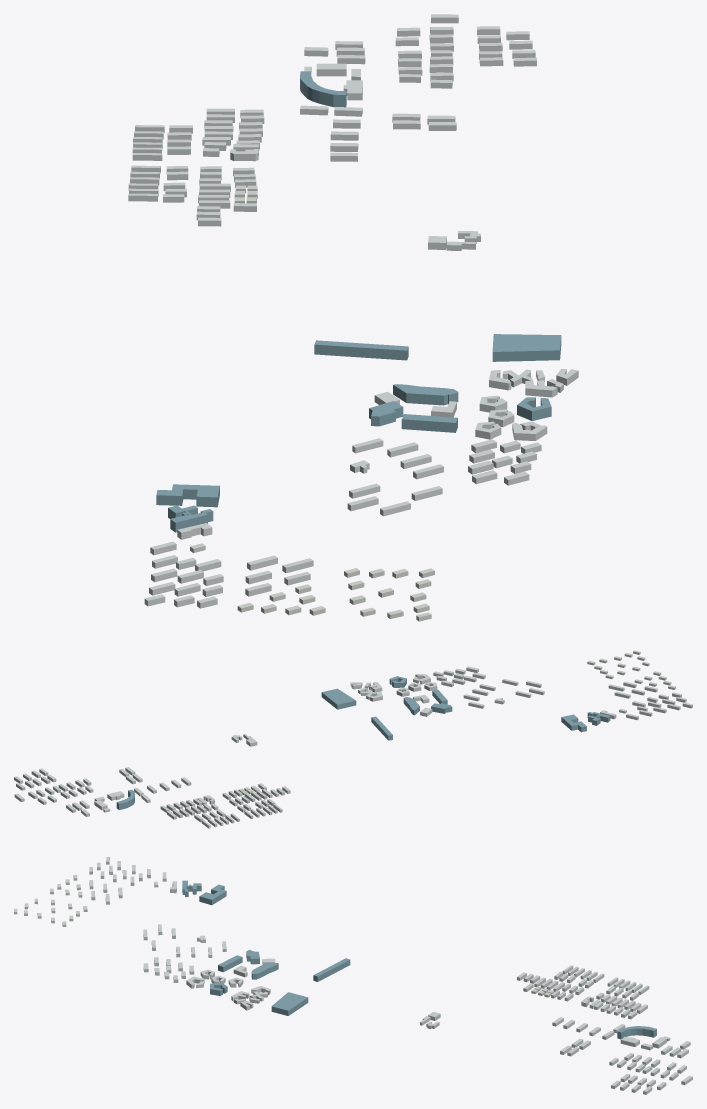
File: buildings-center.glb
3 renders of one model, top to bottom at view 1: azimuth 30°, elevation 25°; view 2: azimuth 150°, elevation 25°; view 3: azimuth 270°, elevation 25°, orthographic. The views are drawn at different scales.
Parts seen in each view (by area): view 1: BuildingsCenter merged mesh; view 2: BuildingsCenter merged mesh; view 3: BuildingsCenter merged mesh.
Part boxes in pixels (box(x1,y1,x2,y2)): BuildingsCenter merged mesh: box(128, 14, 578, 621); BuildingsCenter merged mesh: box(14, 650, 692, 828); BuildingsCenter merged mesh: box(14, 857, 692, 1094).
Size of the model in its own units: 2194 by 30.02 by 2681.
